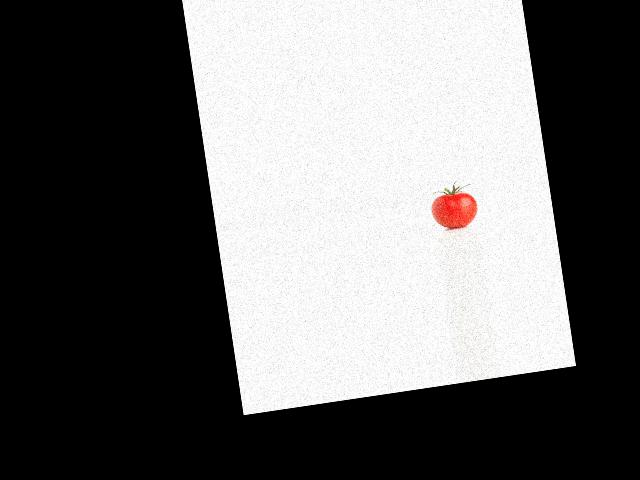tomato: (430, 190, 480, 230)
